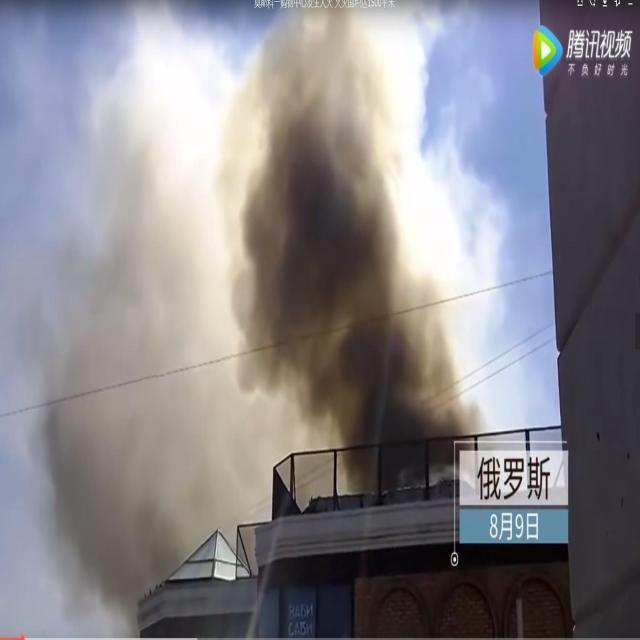Smoke: (0, 1, 512, 636)
